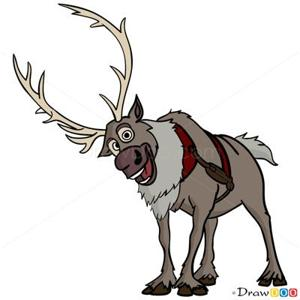sven: (14, 6, 289, 293)
